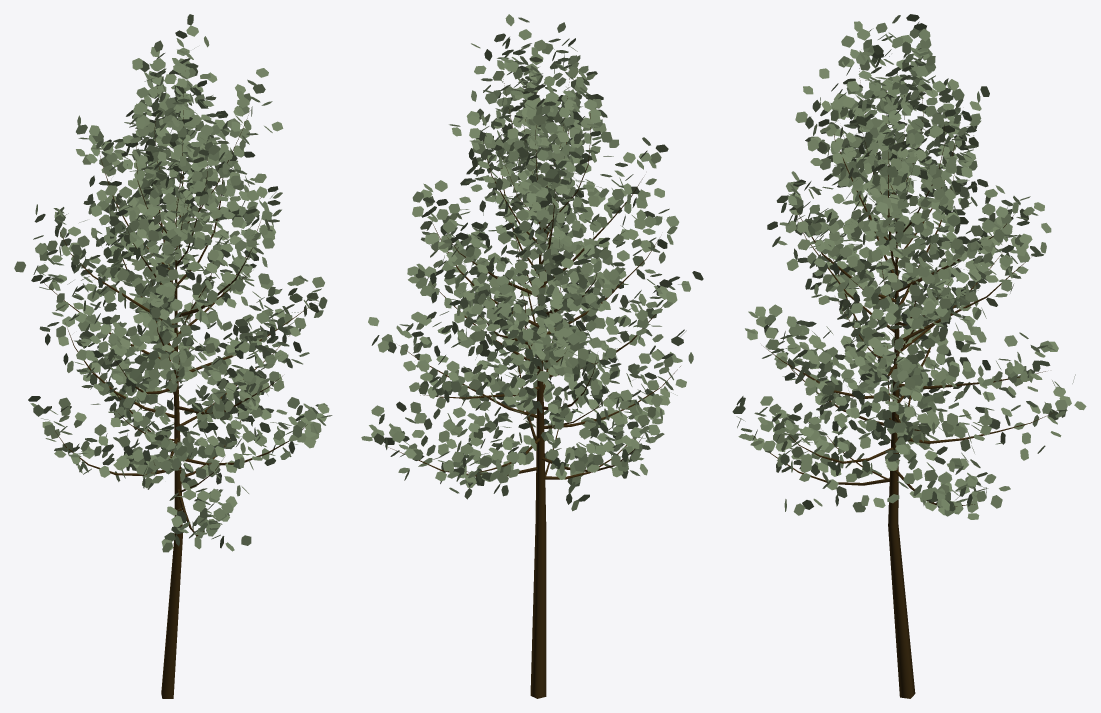
File: tree-leaves-001.glb
3 views of the same model, side by side, from view 1: azimuth 30°, elevation 25°; view 2: azimuth 150°, elevation 25°; view 3: azimuth 270°, elevation 25° (orthographic). The views are drawn at different scales.
Parts seen in each view (by area): view 1: v_leaves.001; view 2: v_leaves.001; view 3: v_leaves.001.
Part boxes in pixels (<box>): v_leaves.001: <box>14,14,332,698</box>; v_leaves.001: <box>361,14,703,698</box>; v_leaves.001: <box>732,14,1086,698</box>.
Bounding box in the file's own units: 6.68 × 14.8 × 6.82.
